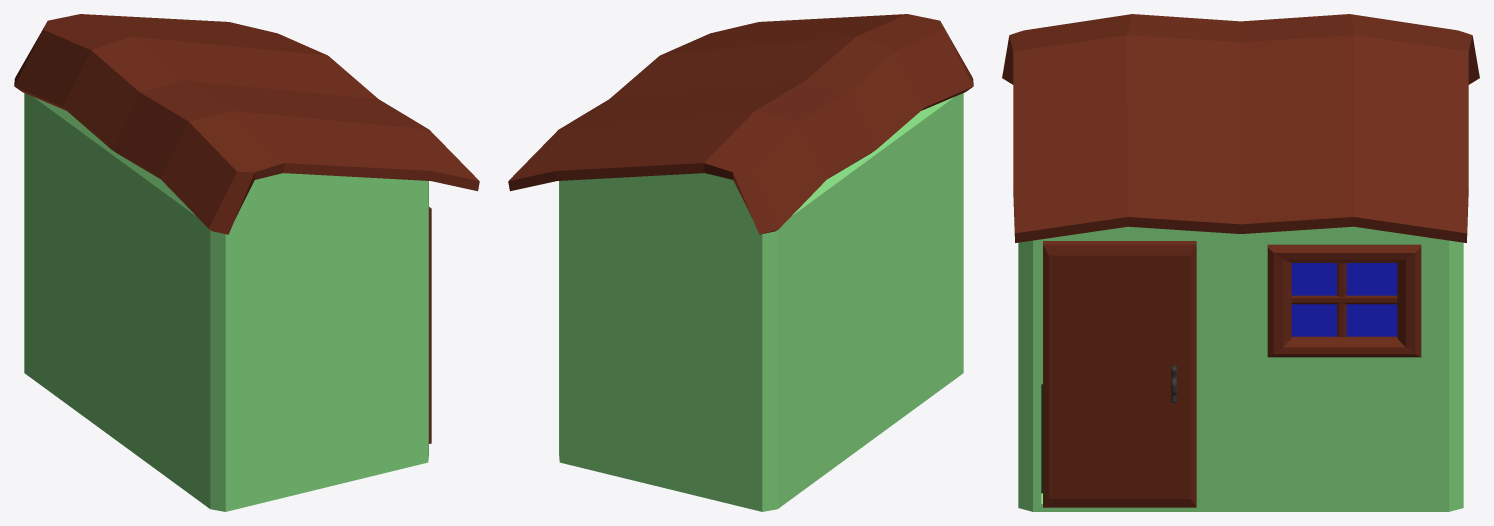
The model's file is House2 1.fbx.
3 views of the same model, side by side, from view 1: azimuth 30°, elevation 25°; view 2: azimuth 150°, elevation 25°; view 3: azimuth 270°, elevation 25° (orthographic). The views are drawn at different scales.
Parts seen in each view (by area): view 1: Cube, Cube.008, Cube.001; view 2: Cube, Cube.008; view 3: Cube.008, Cube, Cube.001, Cube.006, Cube.005, Cube.004.
Boxes of the visible parts, x1,y1,x2,y2 form: Cube: (24, 93, 428, 511); Cube.008: (14, 14, 479, 234); Cube.001: (429, 207, 431, 443); Cube: (559, 93, 963, 511); Cube.008: (508, 14, 973, 234); Cube.008: (1002, 14, 1479, 242); Cube: (1018, 226, 1463, 511); Cube.001: (1043, 241, 1196, 507); Cube.006: (1291, 263, 1397, 336); Cube.005: (1291, 295, 1397, 304); Cube.004: (1337, 263, 1346, 336).
Size of the model in its own units: 369 by 464 by 511.
